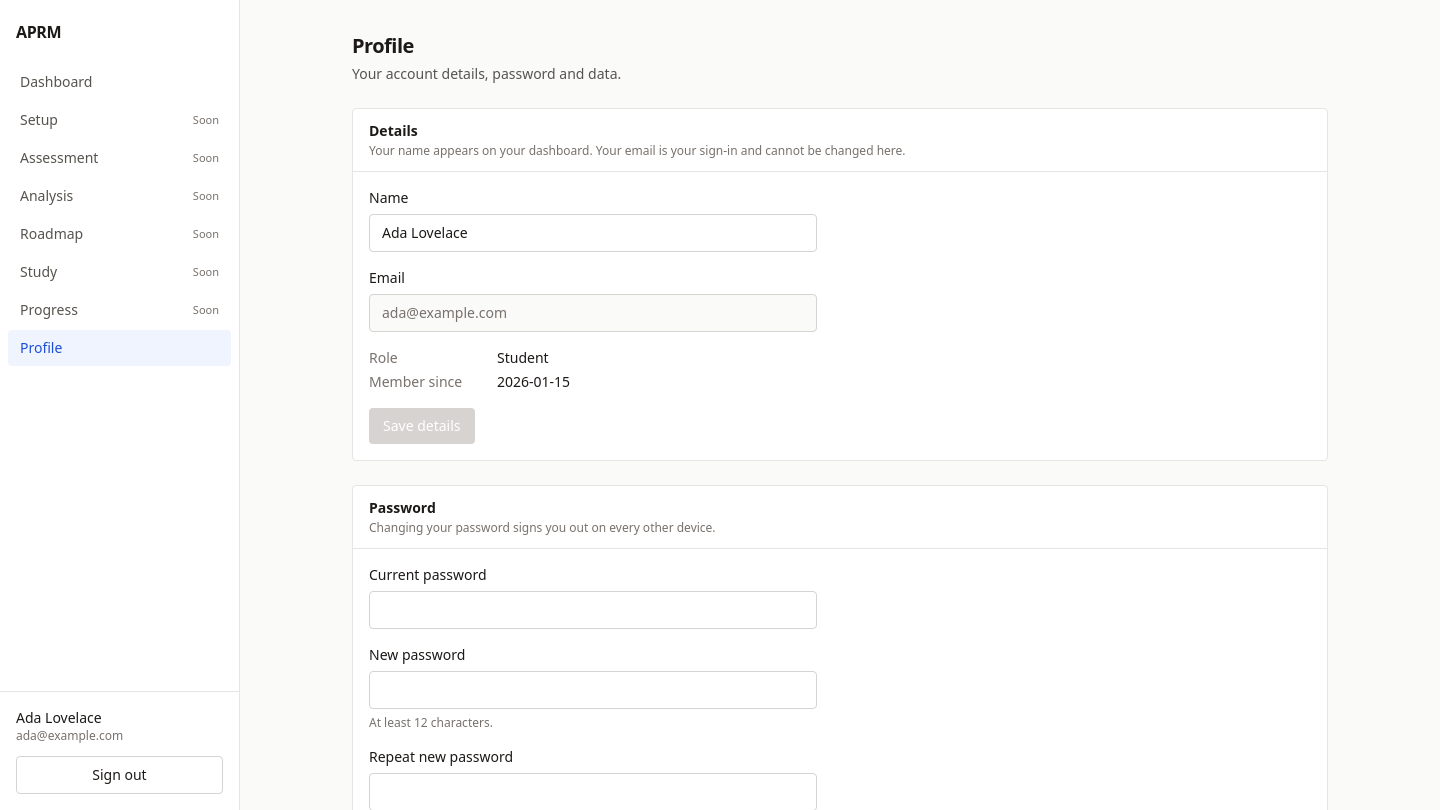
ProfilePage › details › explains a server-side failure
This screenshot has width=1440, height=810.
Expected: the button "Save details" is shown, [369,408,474,444]
Replace the text in the field labelled "Name" with "Ada King". click: [593, 233]
box: [369,214,817,252]
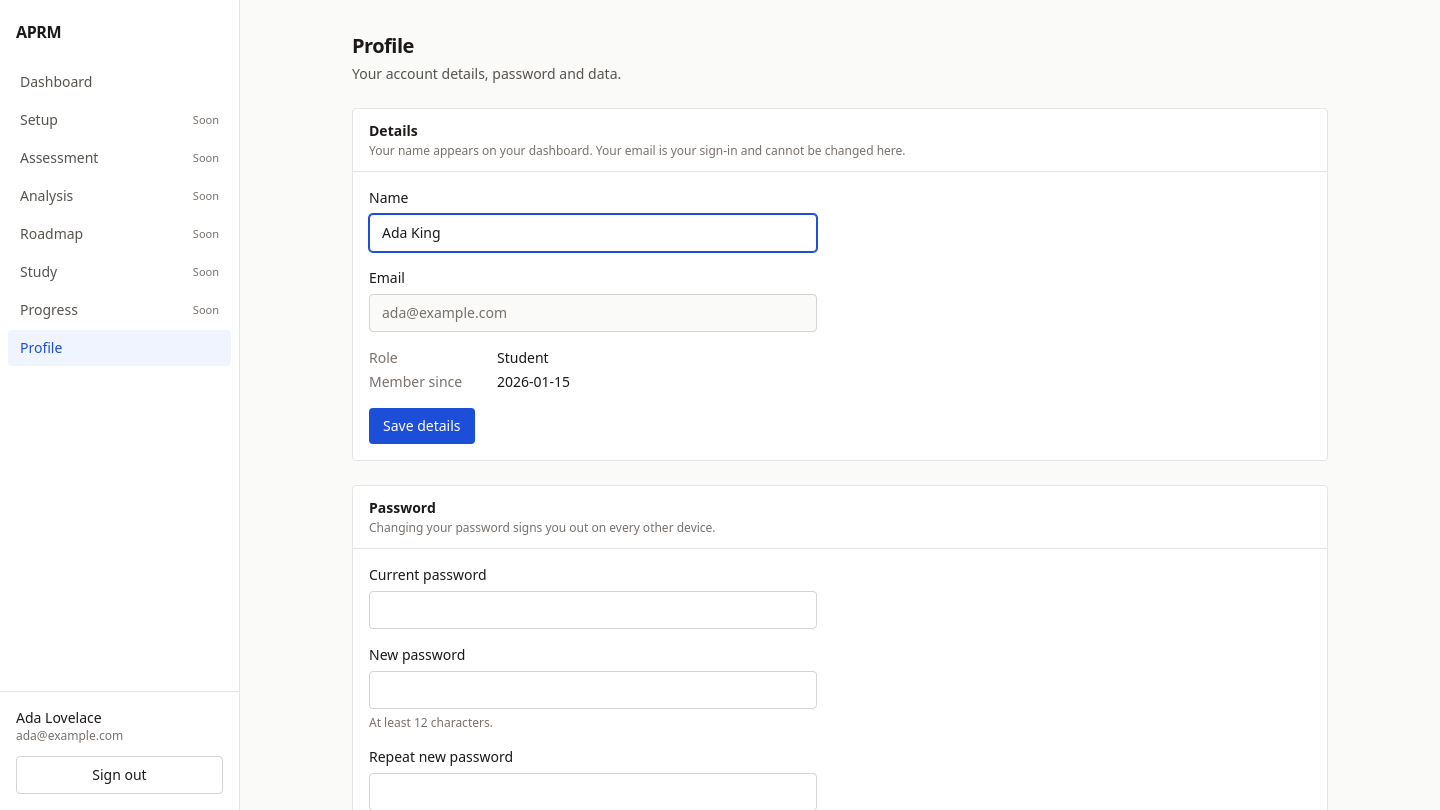
Click the button "Save details". click: [422, 426]
box: [369,408,474,444]
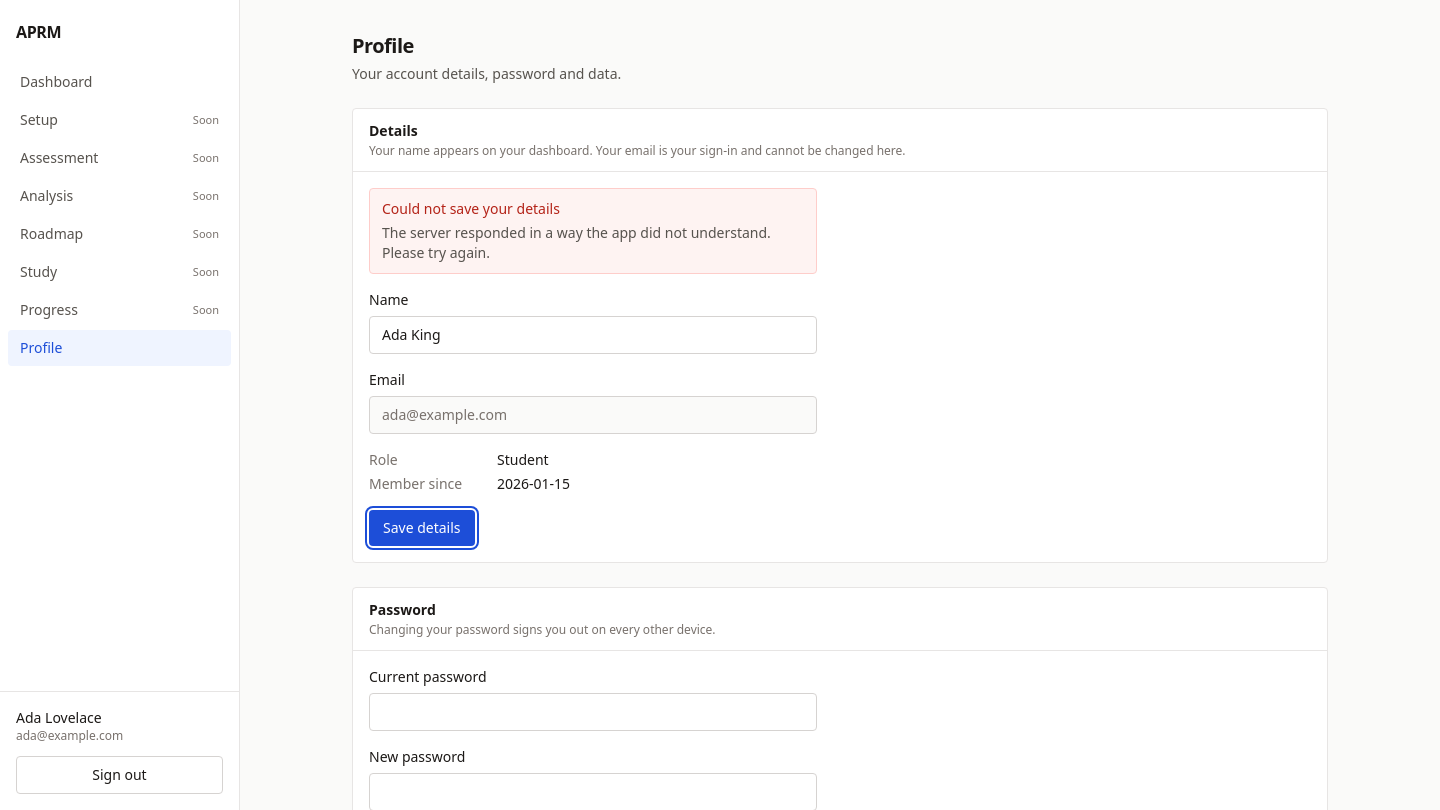
Result: the message shows "Could not save your details" at [382,199,560,218]
